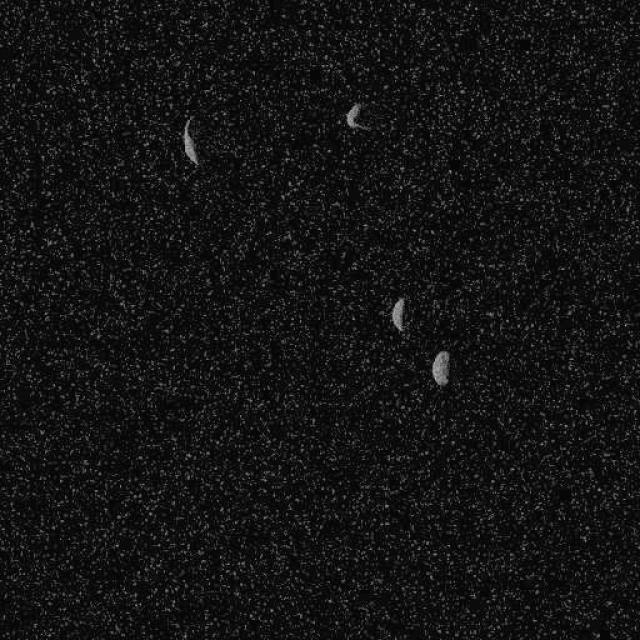D2: (180, 115, 200, 166), (344, 101, 370, 131), (430, 349, 450, 386), (390, 296, 405, 332)
